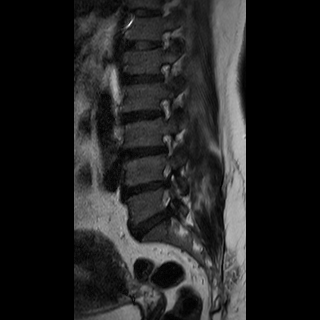LFS0: (153, 91, 175, 125), (153, 57, 175, 87)
